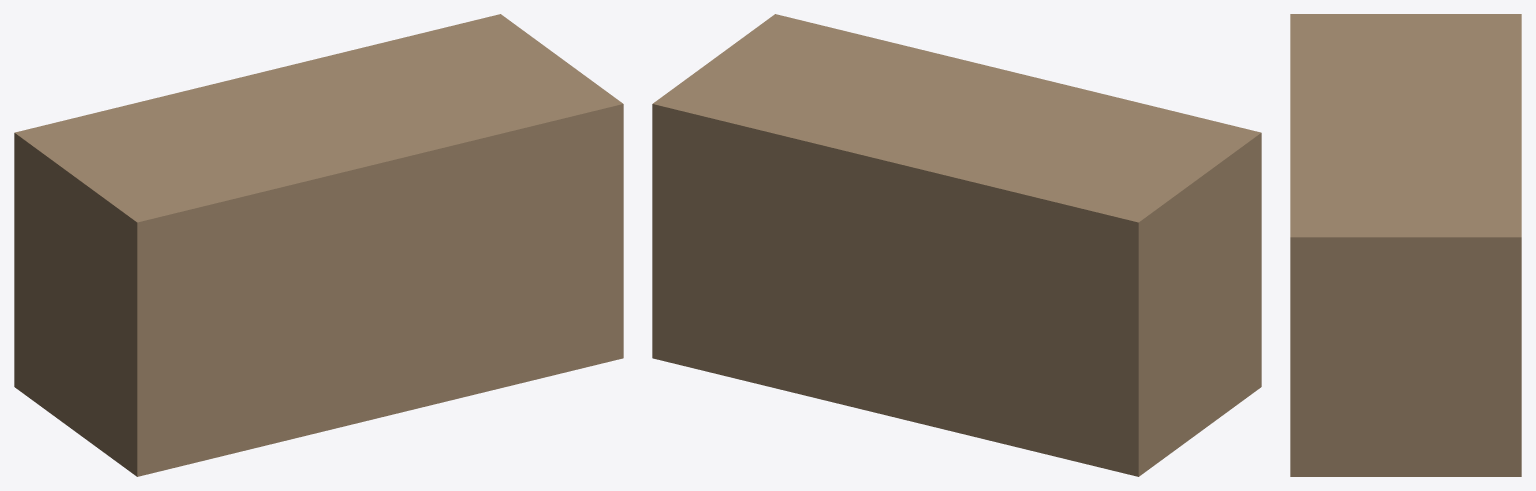
The model's file is CLS-007.glb.
3 views of the same model, side by side, from view 1: azimuth 30°, elevation 25°; view 2: azimuth 150°, elevation 25°; view 3: azimuth 270°, elevation 25° (orthographic). The views are drawn at different scales.
Visible parts, largest first — view 1: 000_Chalk_duster; view 2: 000_Chalk_duster; view 3: 000_Chalk_duster.
Part boxes in pixels (x1,y1,x2,y2): 000_Chalk_duster: (14, 14, 623, 476); 000_Chalk_duster: (652, 14, 1261, 476); 000_Chalk_duster: (1290, 14, 1521, 476).
Bounding box in the file's own units: 0.16 × 0.081 × 0.07.
